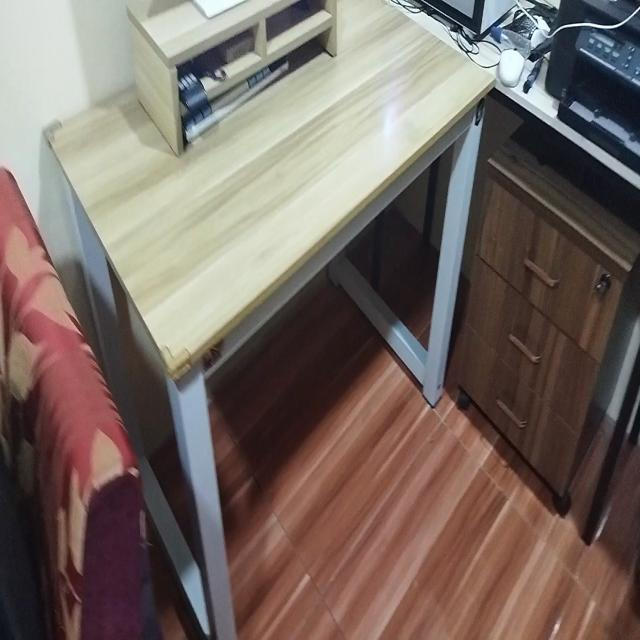table: (42, 3, 487, 514)
